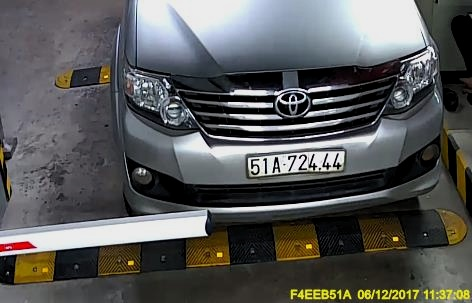plate: (245, 146, 350, 180)
